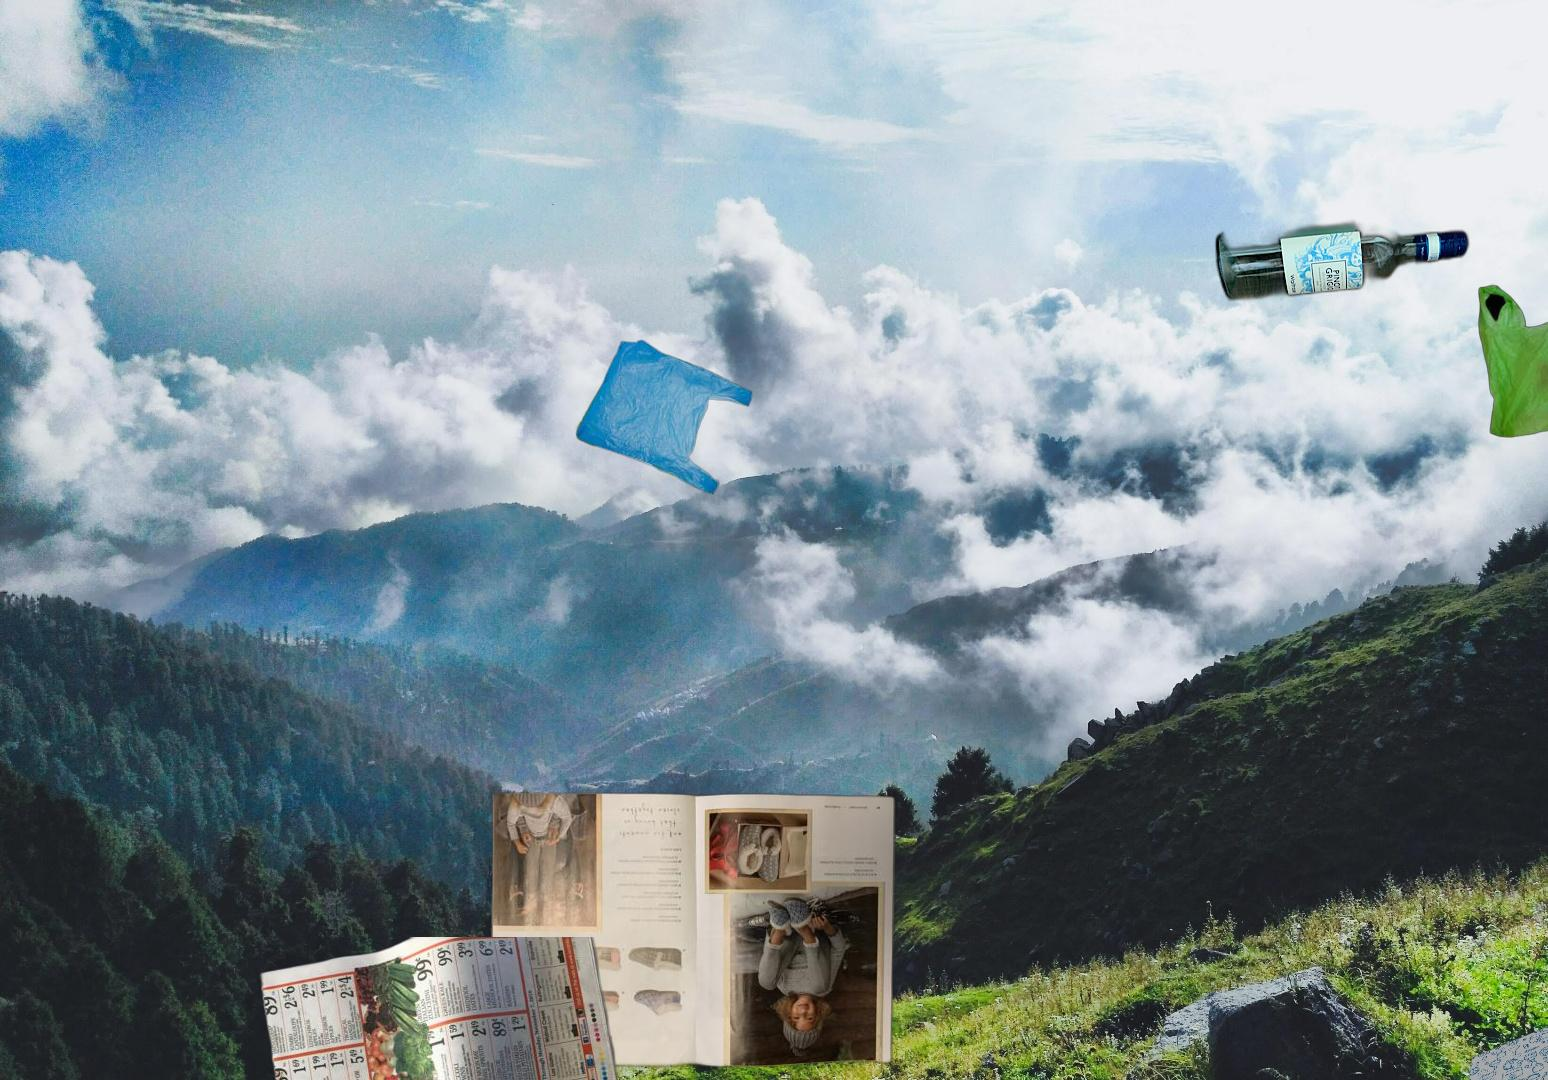glass: (1212, 216, 1474, 305)
paper: (486, 789, 899, 1071), (256, 936, 653, 1080)
plastic-bag: (1390, 211, 1548, 440), (574, 336, 753, 496)
trashbox-cardboard: (1457, 1016, 1548, 1080)
